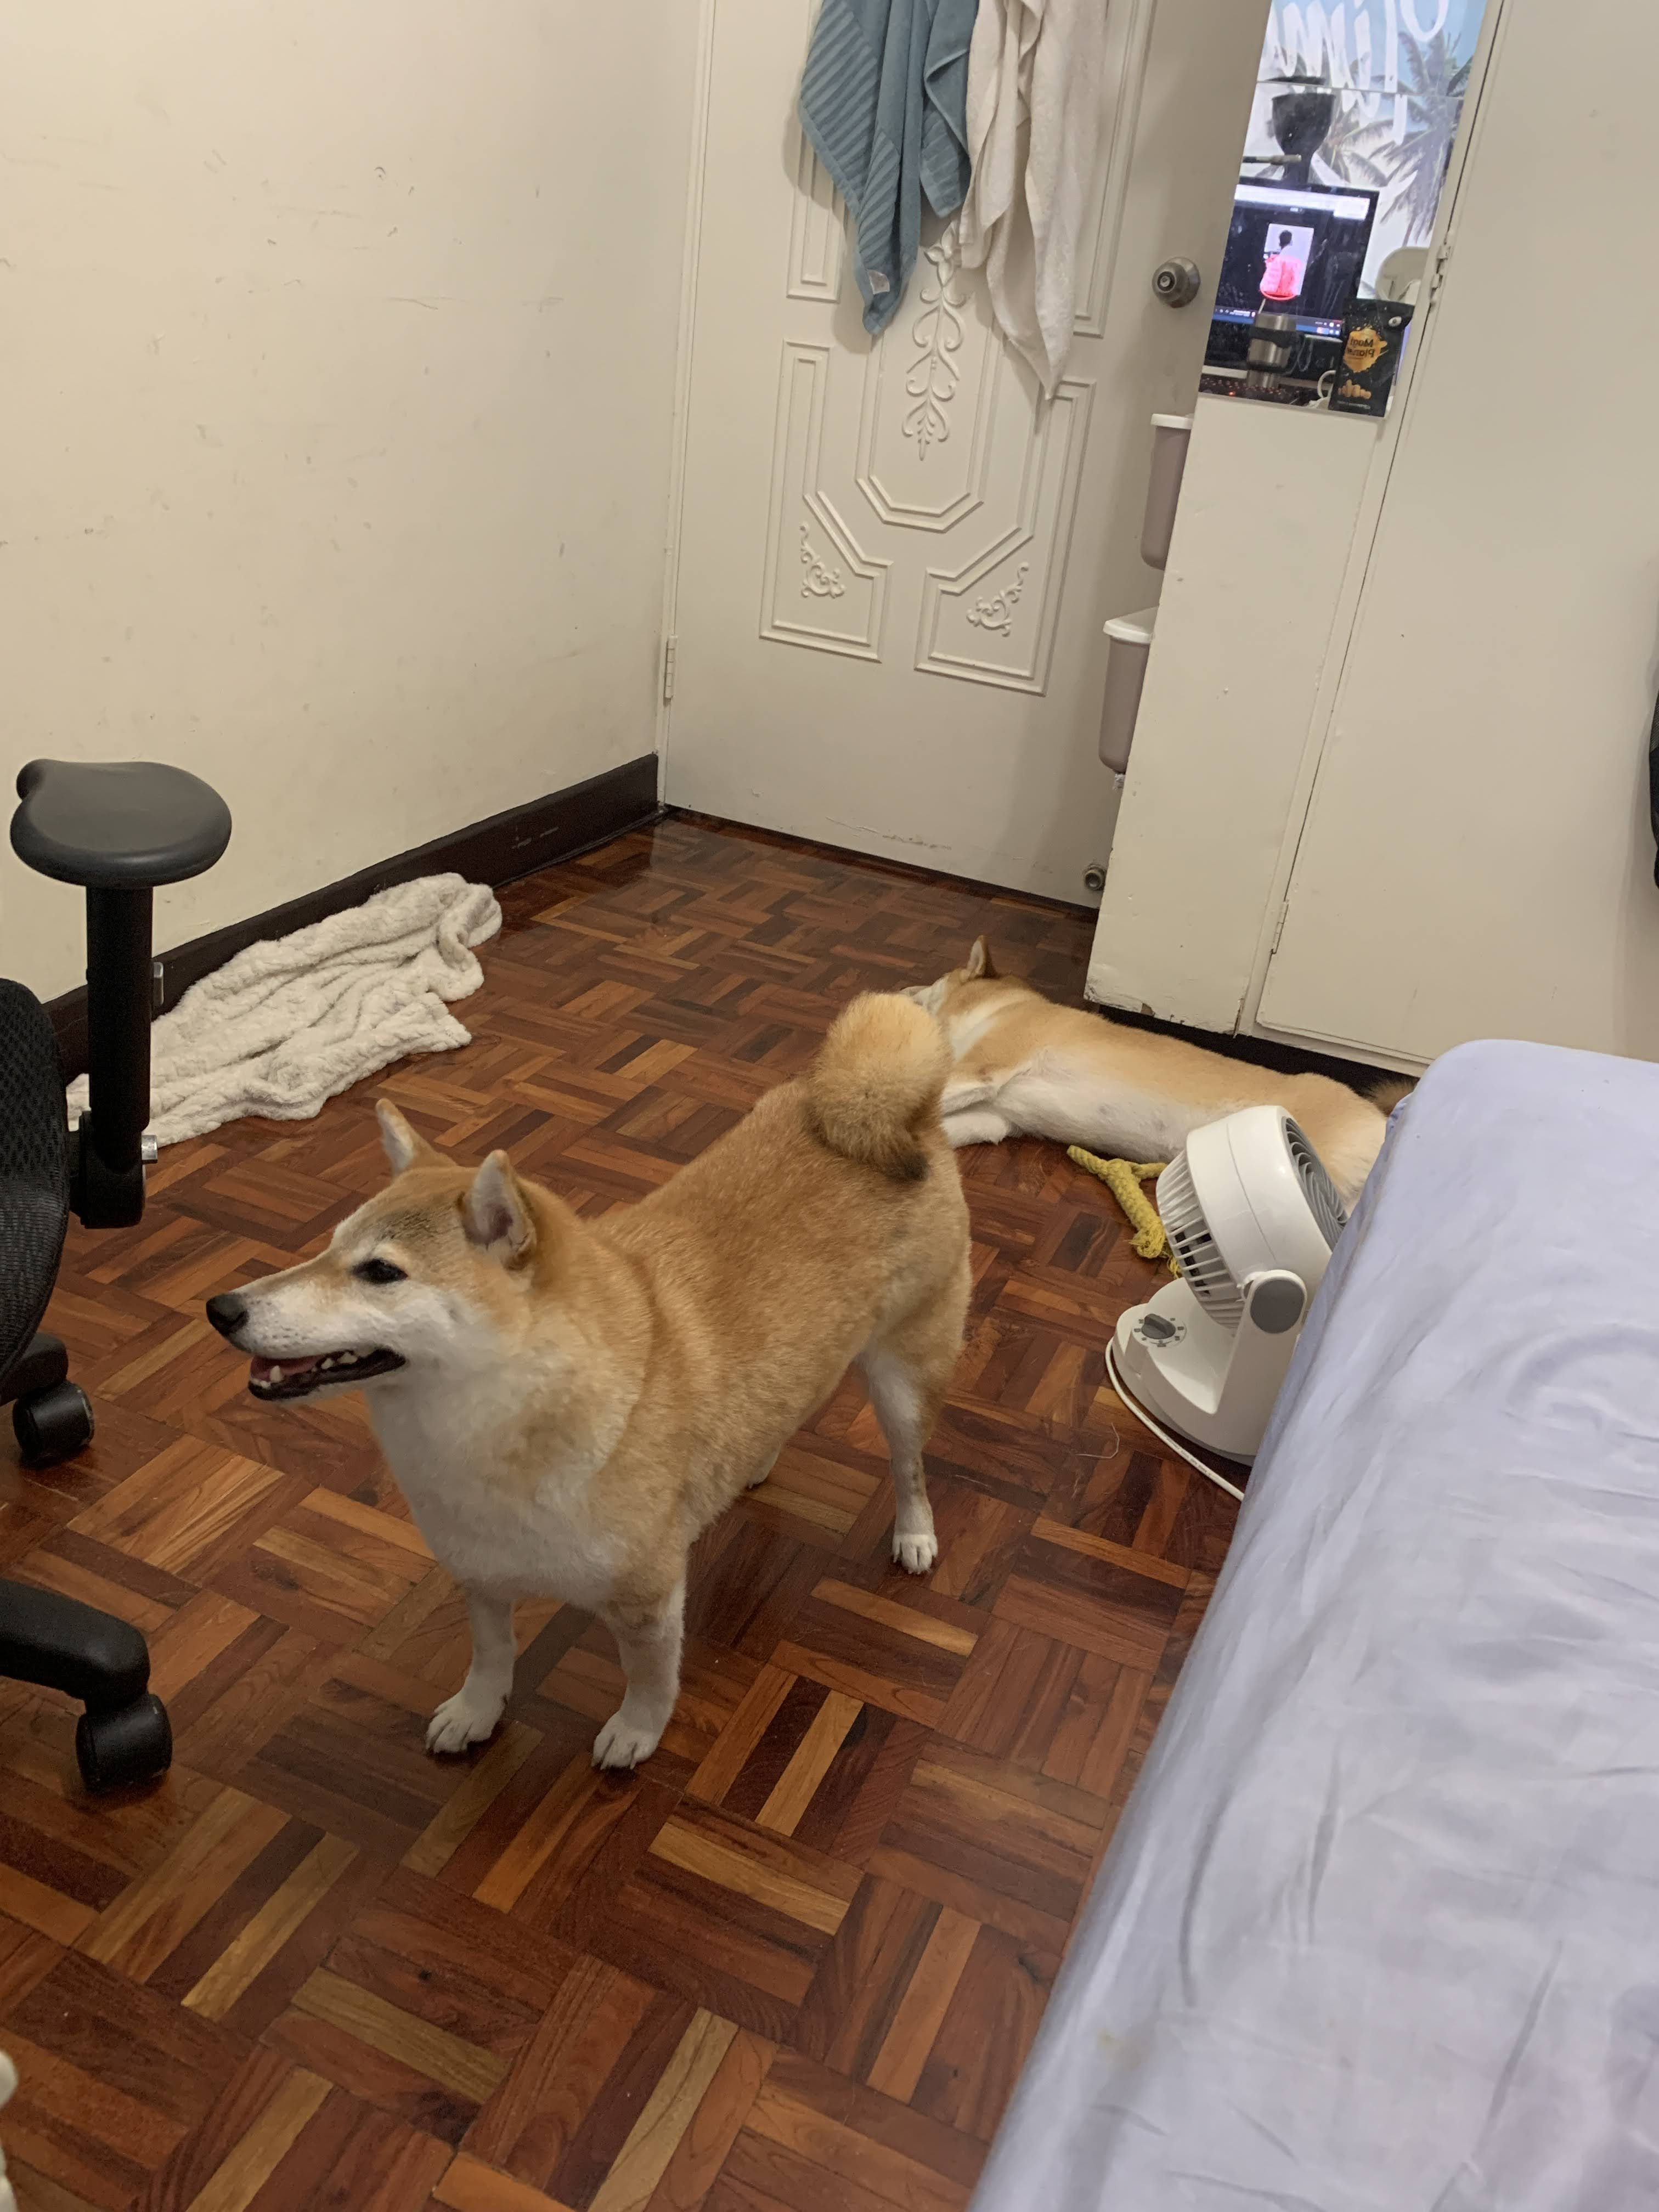Lie down: (911, 921, 1405, 1235)
Stand up: (206, 991, 1026, 1761)
